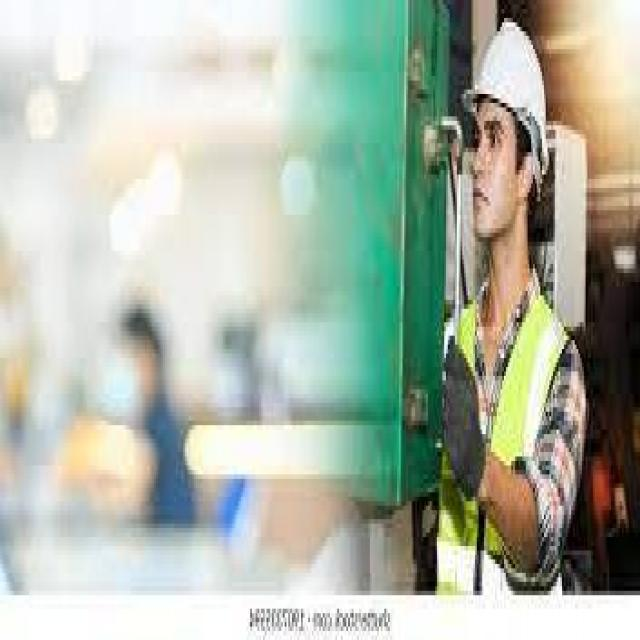Reflective-Jacket: (426, 278, 586, 600)
Safety-Helmet: (464, 13, 555, 170)
